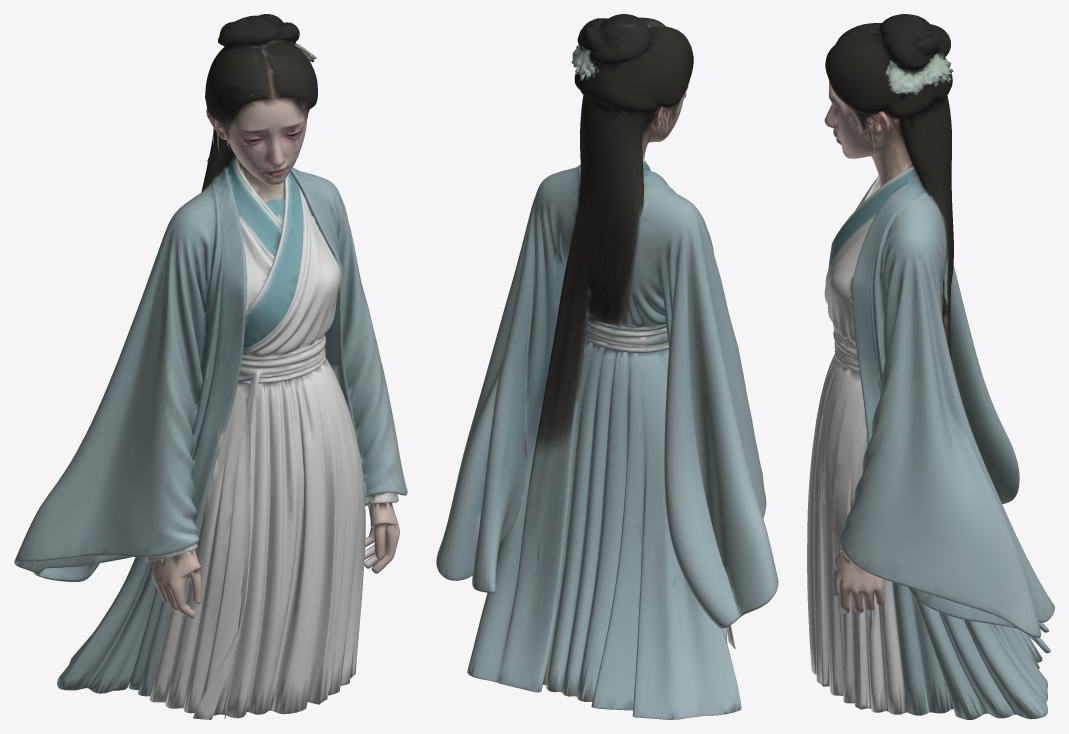
Rendered from lin_daiyu.glb.
3 views of the same model, side by side, from view 1: azimuth 30°, elevation 25°; view 2: azimuth 150°, elevation 25°; view 3: azimuth 270°, elevation 25° (orthographic). The views are drawn at different scales.
Parts seen in each view (by area): view 1: node_0; view 2: node_0; view 3: node_0.
Part boxes in pixels (x1=…): node_0: x1=14, y1=14, x2=407, y2=719; node_0: x1=436, y1=14, x2=778, y2=719; node_0: x1=807, y1=14, x2=1054, y2=719.
Size of the model in its own units: 0.5931 by 1.08 by 0.3703.
Materials: 1 (1 with a texture image).
